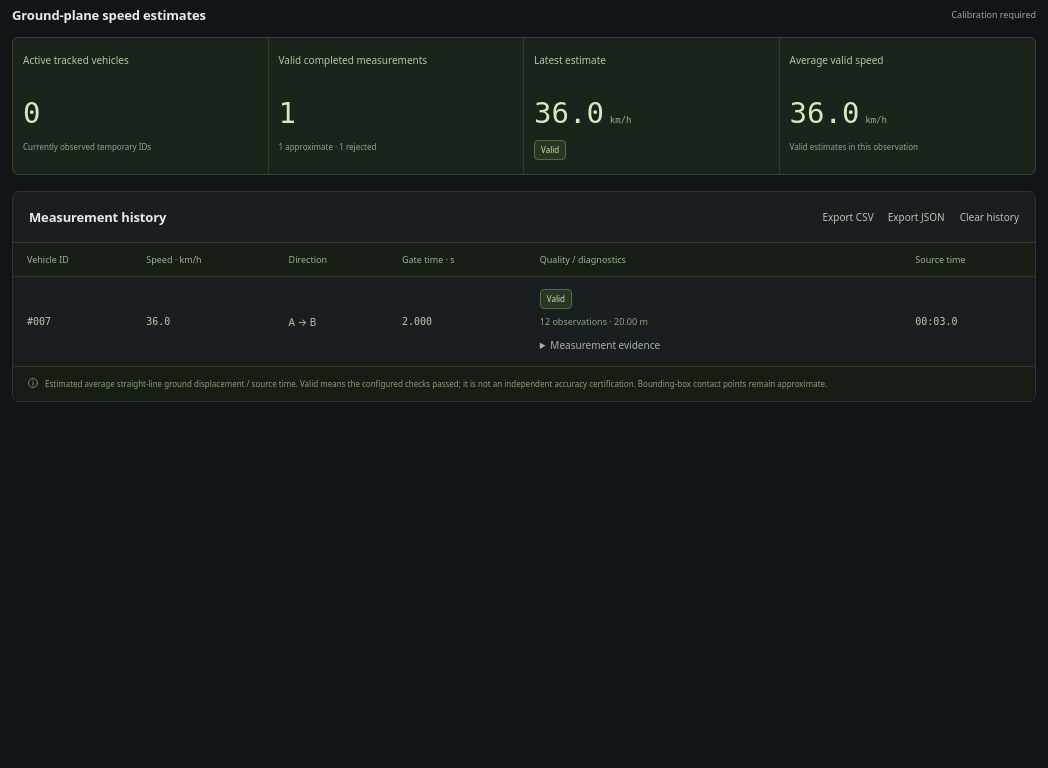
Test case: measurement display › exposes observed measurement evidence without implying a statistical error bound
What coordinates should you click on to do the following:
click the heading "Measurement evidence"
I would click on:
 (605, 345)
Its box is [550, 338, 660, 352].
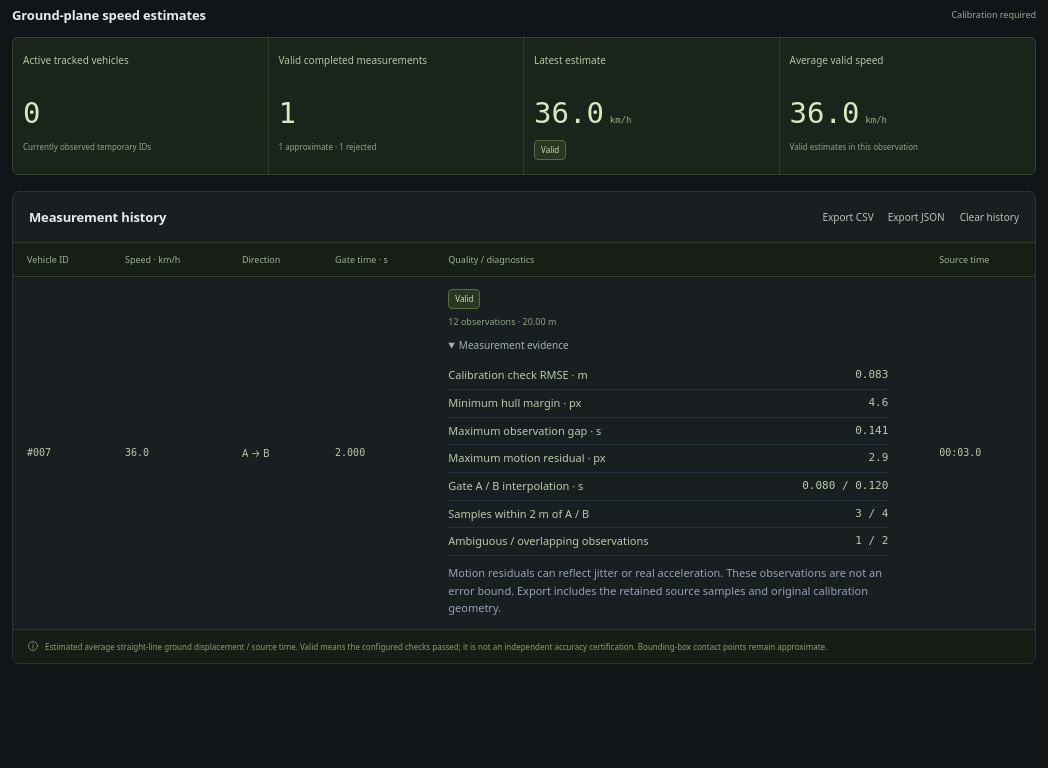
Result: the text "0.083" is shown at [855, 366, 888, 385]
Result: the text "4.6" is shown at [868, 394, 888, 413]
Result: the text "0.141" is shown at [855, 422, 888, 440]
